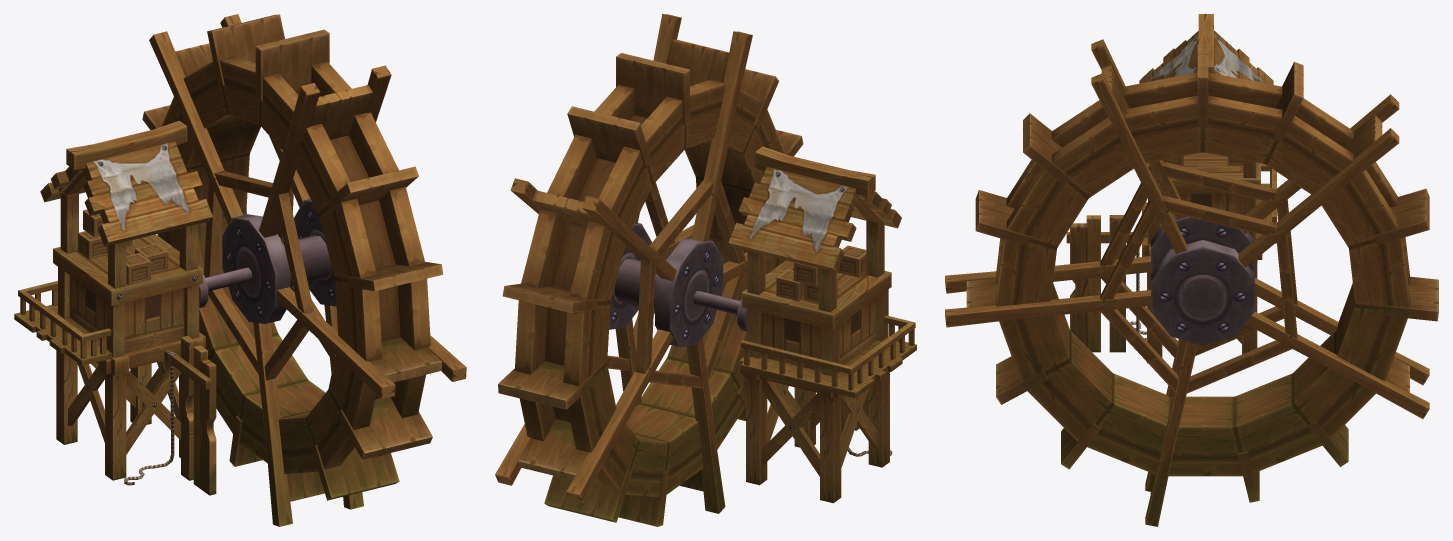
File: Stage_CaoYuan_ShuiChe01.FBX
The picture shows the model from 3 angles, left to right: view 1: azimuth 30°, elevation 25°; view 2: azimuth 150°, elevation 25°; view 3: azimuth 270°, elevation 25°; orthographic projection. The views are drawn at different scales.
Visible parts, largest first — view 1: Stage_CaoYuan_ShuiChe01; view 2: Stage_CaoYuan_ShuiChe01; view 3: Stage_CaoYuan_ShuiChe01.
Boxes of the visible parts, x1,y1,x2,y2 form: Stage_CaoYuan_ShuiChe01: [14, 14, 466, 526]; Stage_CaoYuan_ShuiChe01: [495, 14, 916, 526]; Stage_CaoYuan_ShuiChe01: [945, 14, 1438, 526].
Bounding box in the file's own units: 372 × 574 × 574.
